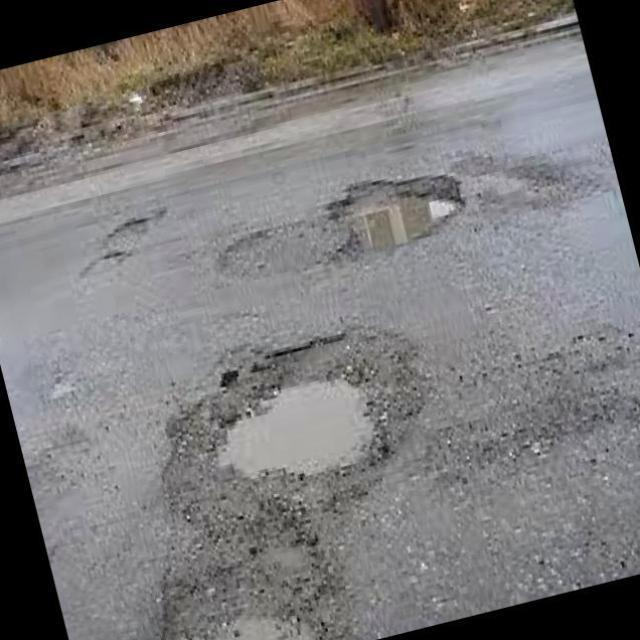pothole: (187, 339, 420, 496), (146, 524, 338, 636), (320, 169, 480, 250)
